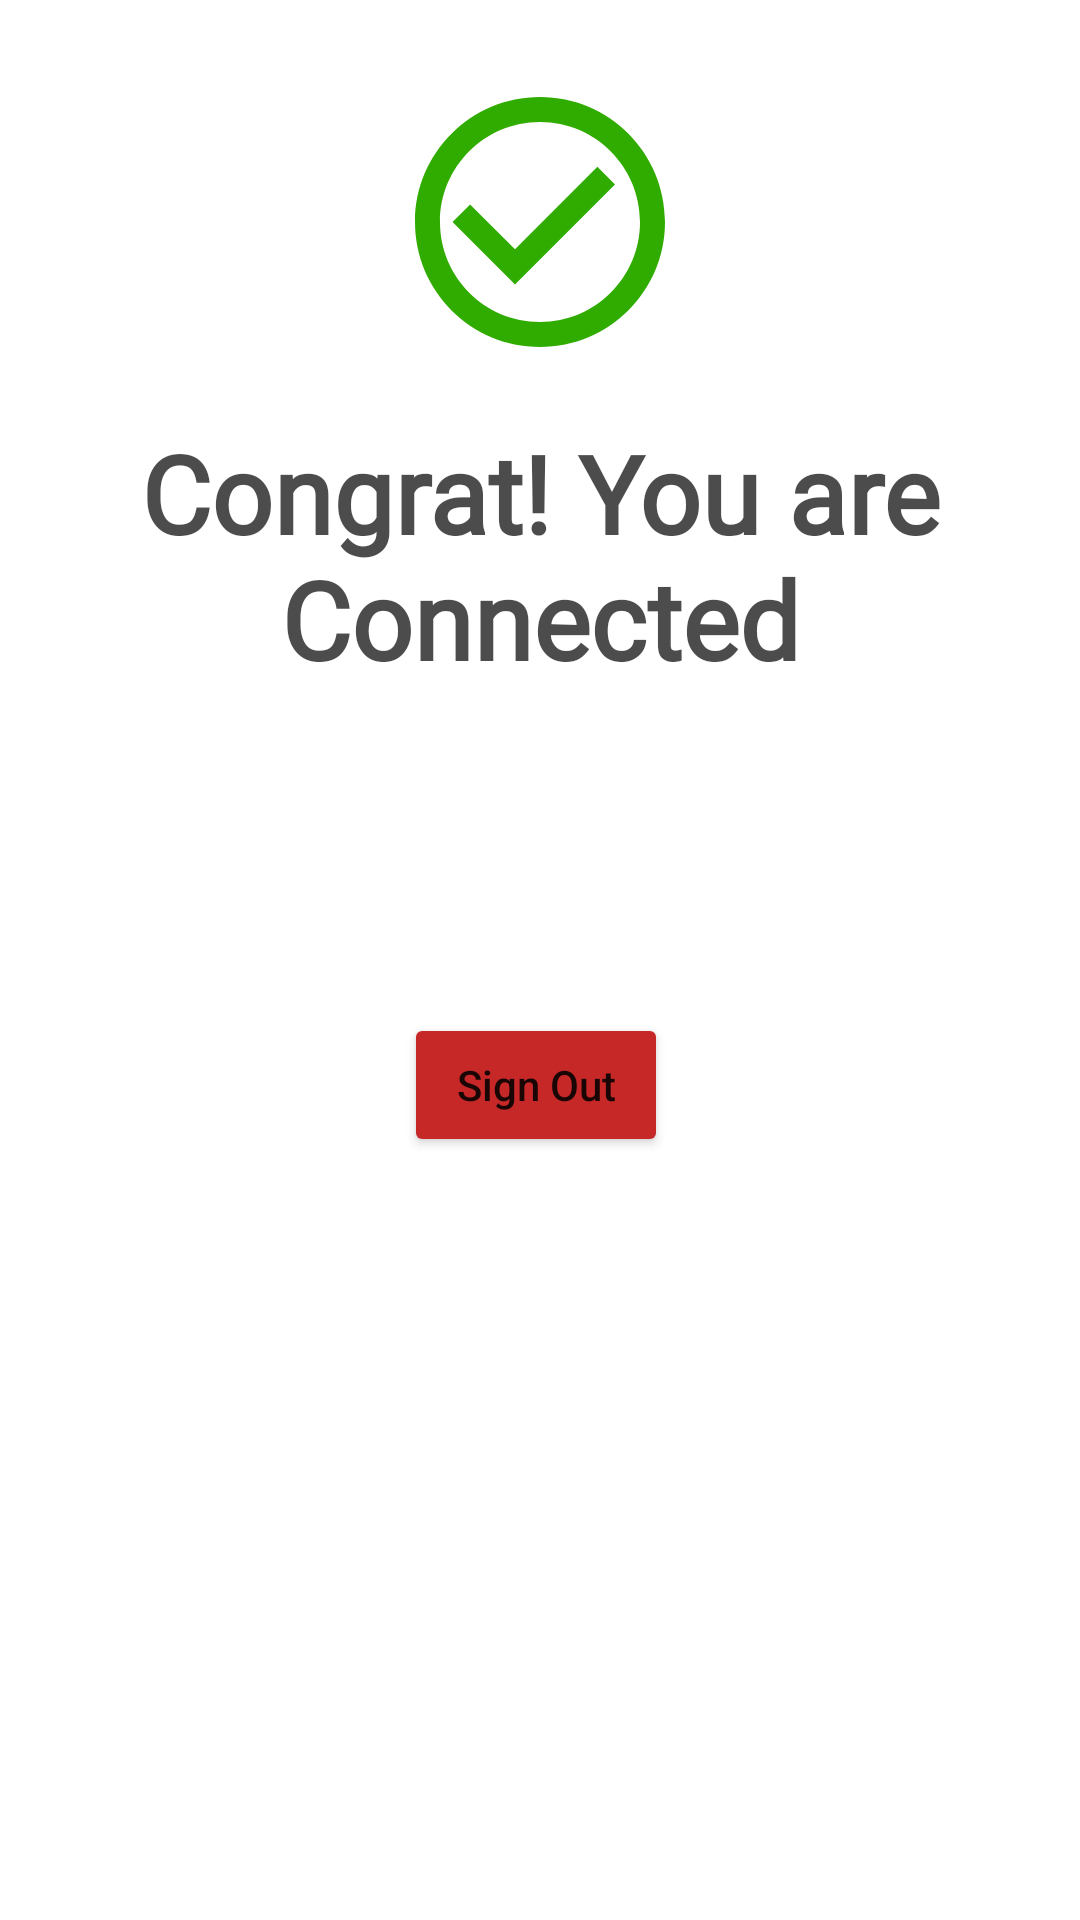

Screen size 1080 × 1920. Icon name, then its center in pixels as (x=x, y=y):
check circle: (x=540, y=222)
